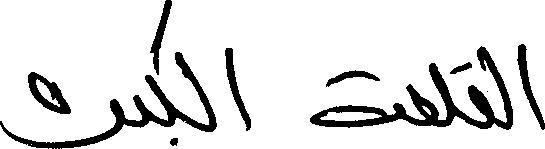X: (311, 65, 398, 132), (0, 67, 68, 148), (149, 0, 175, 148), (177, 47, 214, 147), (461, 41, 491, 133), (70, 94, 121, 148), (518, 39, 544, 134), (225, 43, 249, 135), (409, 58, 437, 131), (493, 56, 512, 134), (439, 64, 453, 131), (135, 71, 145, 132)
